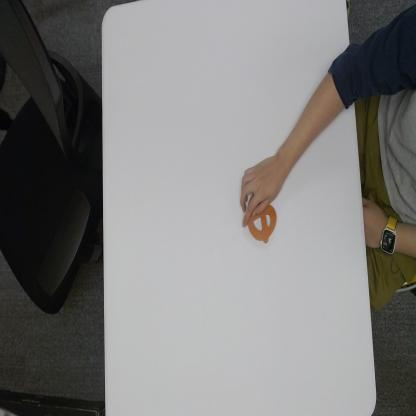Arm: (283, 39, 357, 174)
Hand: (238, 151, 286, 229)
Pretzel: (246, 203, 278, 245)
